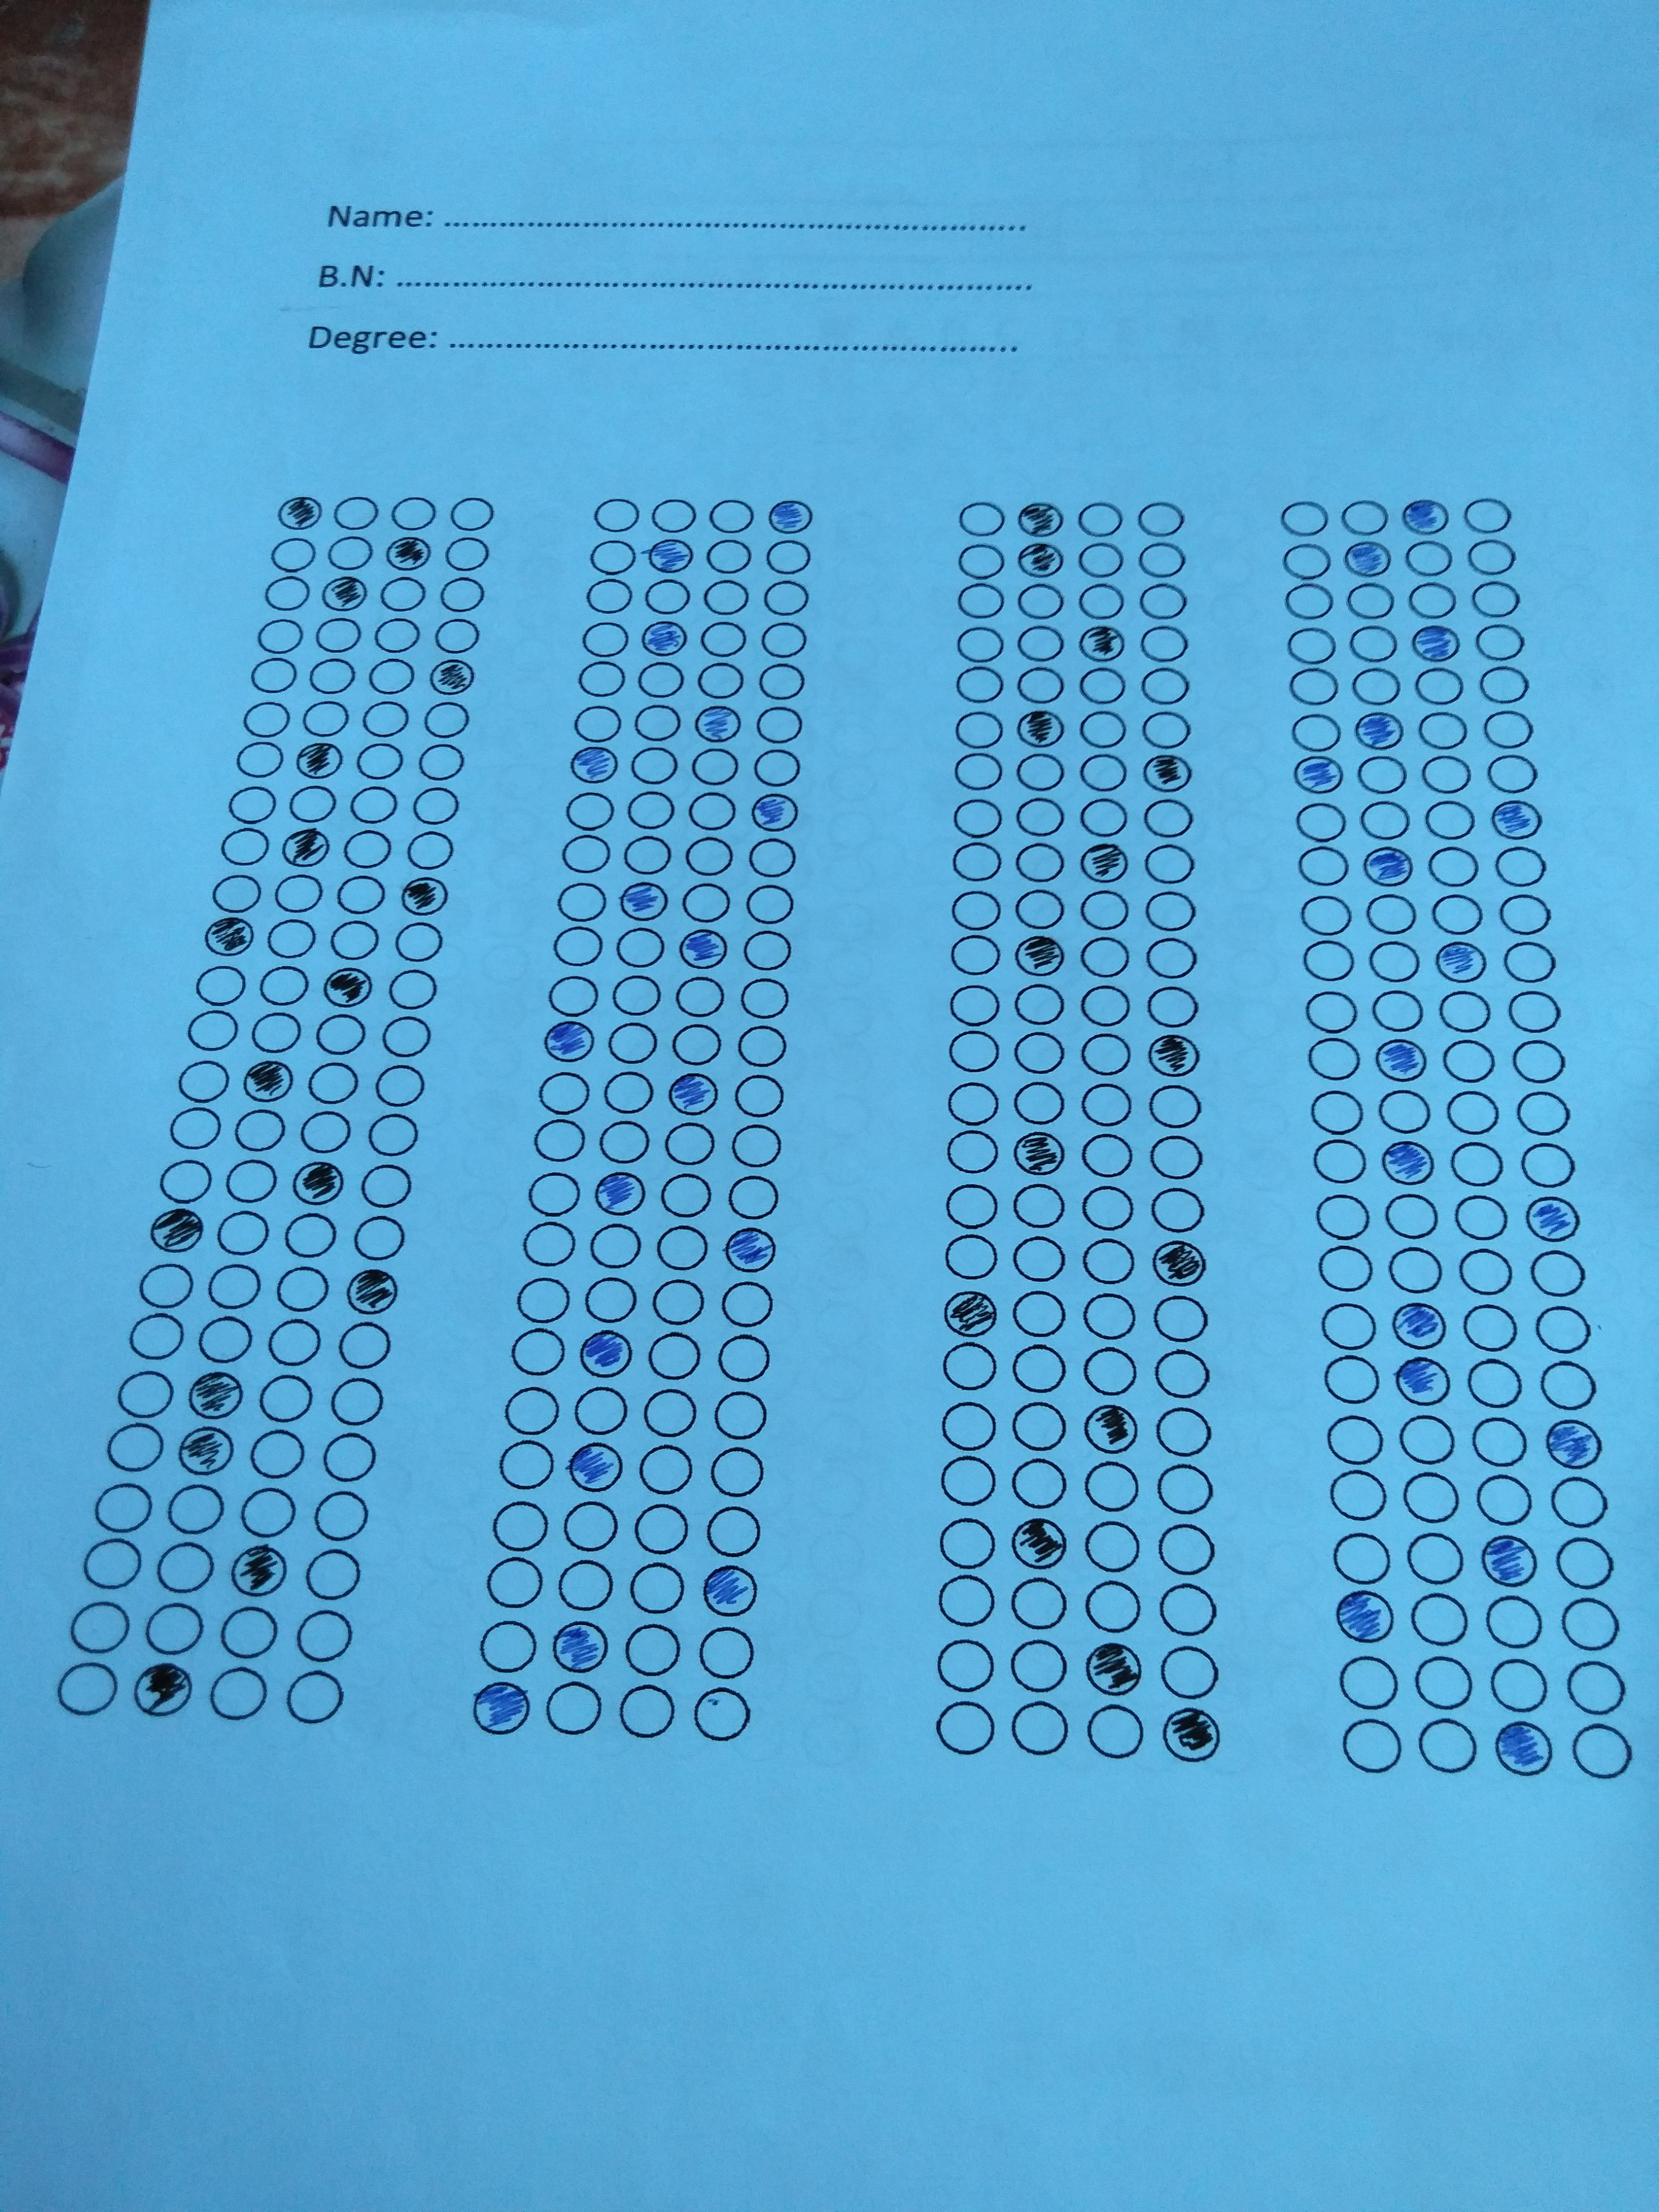not-c: (1342, 1716, 1406, 1778), (1326, 1411, 1391, 1474), (1326, 1461, 1391, 1524), (1481, 1594, 1546, 1656), (1340, 1649, 1405, 1712), (1419, 1714, 1483, 1777), (78, 1536, 146, 1595), (1159, 1646, 1227, 1705), (931, 1575, 999, 1634), (1072, 1512, 1140, 1571), (938, 1339, 1006, 1399), (1561, 1656, 1624, 1719), (1415, 1653, 1478, 1716), (1553, 1527, 1617, 1588), (1399, 1527, 1464, 1588), (1333, 1527, 1398, 1588), (1410, 1588, 1474, 1649), (1488, 1651, 1553, 1712), (1568, 1721, 1633, 1782), (113, 1366, 179, 1425), (64, 1601, 131, 1660), (1082, 1573, 1148, 1632), (1084, 1700, 1150, 1759), (537, 1681, 603, 1740), (1155, 1515, 1222, 1575), (936, 1454, 1002, 1514), (936, 1515, 1002, 1575), (1009, 1575, 1075, 1634), (52, 1658, 120, 1716), (105, 1423, 173, 1480), (692, 1684, 760, 1742), (1007, 1634, 1075, 1691), (931, 1702, 999, 1759), (934, 1230, 1002, 1287), (938, 1397, 1006, 1454), (1561, 1592, 1624, 1653), (89, 1477, 155, 1534), (617, 1684, 683, 1742), (1157, 1578, 1223, 1635), (932, 1637, 999, 1695), (1000, 1702, 1066, 1759), (695, 1625, 758, 1683), (631, 1501, 694, 1559), (648, 1271, 711, 1329), (723, 1169, 786, 1226), (704, 1442, 767, 1500), (714, 1275, 777, 1332), (507, 1327, 570, 1385), (504, 1383, 566, 1440), (563, 1496, 626, 1554), (559, 1550, 622, 1608), (624, 1623, 687, 1681), (1006, 1284, 1068, 1341), (1009, 1181, 1072, 1238), (1152, 1461, 1215, 1519), (1007, 1454, 1070, 1512), (1012, 1397, 1075, 1454), (512, 1275, 575, 1332), (523, 1163, 586, 1221), (519, 1217, 582, 1275), (626, 1562, 688, 1618), (638, 1440, 701, 1496), (640, 1388, 702, 1444), (645, 1329, 708, 1385), (713, 1329, 775, 1385), (706, 1388, 769, 1444), (702, 1501, 765, 1557), (481, 1555, 544, 1611), (500, 1442, 563, 1498), (491, 1498, 554, 1554), (477, 1620, 540, 1676), (1011, 1334, 1073, 1390), (1004, 1233, 1066, 1289), (1079, 1454, 1141, 1510), (575, 1381, 638, 1437), (1448, 1137, 1509, 1193), (1469, 1411, 1530, 1467), (1398, 1411, 1459, 1467), (1399, 1467, 1460, 1522), (1307, 1087, 1368, 1143), (1504, 1031, 1565, 1087), (1297, 887, 1358, 942), (1302, 979, 1363, 1035), (1305, 1031, 1366, 1087), (1443, 1082, 1504, 1137), (1530, 1247, 1591, 1303), (1467, 1355, 1528, 1411), (1460, 1298, 1521, 1353), (1453, 1244, 1514, 1299), (1474, 1472, 1535, 1526), (1377, 1083, 1438, 1137), (1549, 1474, 1610, 1527), (1317, 1240, 1378, 1294), (1387, 1244, 1448, 1298), (1380, 1190, 1441, 1244), (1319, 1350, 1380, 1404), (1323, 1299, 1384, 1353), (1310, 1190, 1371, 1244), (1305, 1137, 1366, 1191), (1302, 932, 1363, 986), (1514, 1090, 1575, 1144), (1518, 1137, 1579, 1191), (1532, 1299, 1593, 1353), (1537, 1357, 1598, 1411), (1453, 1190, 1514, 1244), (655, 1219, 713, 1273), (580, 1271, 638, 1325), (660, 1169, 718, 1223), (587, 1219, 645, 1273), (216, 1606, 277, 1656), (275, 1264, 336, 1315), (281, 1212, 342, 1263), (282, 1672, 343, 1723), (303, 1550, 364, 1601), (319, 1433, 380, 1484), (329, 1378, 390, 1428), (349, 1217, 410, 1268), (136, 1261, 197, 1312), (143, 1604, 204, 1655), (157, 1543, 218, 1594), (195, 1315, 256, 1366), (211, 1204, 272, 1254), (152, 1157, 213, 1207), (220, 1157, 281, 1207), (1077, 1186, 1138, 1237), (1147, 1294, 1208, 1345), (1148, 1407, 1209, 1458), (1080, 1237, 1141, 1287), (359, 1163, 418, 1214), (237, 1486, 296, 1536), (249, 1426, 308, 1477), (258, 1374, 317, 1425), (295, 1609, 354, 1660), (314, 1493, 373, 1543), (338, 1322, 397, 1372), (209, 1669, 268, 1719), (124, 1310, 183, 1360), (206, 1263, 265, 1313), (1145, 1183, 1204, 1233), (1079, 1346, 1138, 1397), (1080, 1289, 1140, 1339), (1145, 1350, 1206, 1399), (938, 1184, 999, 1233), (1502, 988, 1563, 1036), (1438, 1038, 1499, 1087), (664, 1122, 720, 1174), (267, 1317, 326, 1366), (164, 1486, 223, 1534), (1143, 1134, 1202, 1183), (606, 1019, 662, 1069), (612, 925, 667, 975), (1148, 1083, 1206, 1132), (610, 972, 667, 1021), (1007, 1028, 1066, 1075), (1080, 1080, 1134, 1130), (596, 1116, 652, 1165), (601, 1068, 657, 1116), (680, 878, 735, 927), (683, 836, 739, 885), (1079, 1130, 1136, 1177), (1140, 840, 1197, 885), (1436, 989, 1493, 1035), (1420, 796, 1478, 841), (1345, 664, 1403, 709), (1349, 624, 1406, 669), (1342, 493, 1399, 538), (1427, 845, 1485, 890), (1492, 843, 1549, 888), (1499, 890, 1556, 935), (1368, 941, 1425, 986), (1366, 894, 1424, 939), (1427, 890, 1485, 935), (1356, 756, 1413, 801), (1293, 798, 1351, 843), (1288, 707, 1345, 752), (1286, 667, 1344, 712), (1281, 578, 1338, 624), (1276, 538, 1333, 583), (1277, 493, 1335, 538), (1419, 709, 1476, 754), (1478, 752, 1535, 798), (1419, 749, 1476, 794), (1143, 934, 1199, 979), (1079, 1031, 1134, 1076), (1371, 989, 1427, 1035), (1295, 845, 1351, 890), (1345, 578, 1401, 624), (1502, 939, 1558, 984), (1356, 794, 1412, 840), (1284, 622, 1340, 667), (258, 615, 315, 658), (256, 573, 314, 617), (369, 613, 427, 657), (373, 571, 430, 615), (587, 491, 645, 535), (647, 495, 704, 538), (706, 493, 763, 536), (263, 531, 321, 575), (324, 524, 382, 568), (328, 488, 385, 531), (430, 571, 488, 615), (441, 533, 498, 577), (444, 491, 502, 535), (1141, 890, 1199, 934), (619, 833, 671, 880), (626, 787, 678, 834), (432, 613, 488, 657), (948, 934, 1004, 977), (1075, 752, 1131, 796), (1011, 841, 1066, 885), (1011, 887, 1066, 930), (1007, 982, 1063, 1026), (943, 1129, 999, 1172), (544, 974, 599, 1017), (671, 1024, 727, 1068), (725, 1127, 781, 1170), (737, 1024, 793, 1068), (1079, 888, 1134, 932), (371, 1066, 427, 1109), (382, 1015, 437, 1059), (167, 1108, 223, 1151), (186, 1008, 242, 1052), (300, 1109, 355, 1153), (308, 1061, 364, 1104), (314, 1010, 369, 1054), (1077, 796, 1133, 840), (385, 491, 443, 533), (1145, 986, 1199, 1029), (1079, 934, 1133, 977), (364, 1113, 418, 1157), (554, 925, 610, 967), (739, 977, 795, 1019), (669, 972, 725, 1014), (1012, 1083, 1068, 1125), (948, 1085, 1004, 1127), (948, 1033, 1004, 1075), (946, 982, 1002, 1024), (730, 1075, 786, 1116), (1079, 984, 1134, 1026), (530, 1118, 586, 1160), (537, 1071, 592, 1113), (178, 1059, 234, 1101), (232, 1109, 288, 1151), (249, 1010, 305, 1052), (690, 747, 741, 792), (687, 789, 739, 833), (742, 928, 796, 970), (1405, 536, 1459, 578), (1406, 582, 1460, 624), (1415, 667, 1469, 709), (193, 965, 249, 1005), (1136, 622, 1192, 662), (1464, 538, 1520, 578), (1473, 622, 1528, 662), (1466, 580, 1521, 620), (631, 702, 681, 745), (643, 577, 694, 620), (1143, 796, 1195, 838), (1476, 662, 1530, 702), (410, 791, 465, 829), (413, 745, 469, 784), (416, 704, 472, 742), (329, 921, 385, 960), (335, 876, 390, 914), (357, 700, 413, 738), (385, 970, 441, 1008), (240, 700, 296, 738), (246, 658, 301, 697), (284, 786, 340, 824), (559, 834, 615, 873), (559, 789, 615, 827), (579, 620, 634, 658), (580, 578, 636, 617), (582, 536, 638, 575), (227, 787, 282, 826), (214, 826, 270, 864), (751, 751, 807, 789), (751, 705, 807, 744), (758, 660, 814, 698), (760, 580, 816, 618), (701, 582, 756, 620), (692, 662, 748, 700), (951, 752, 1007, 791), (951, 709, 1007, 747), (955, 542, 1011, 580), (948, 662, 1004, 700), (955, 582, 1011, 620), (1075, 496, 1131, 535), (1133, 500, 1188, 538), (950, 500, 1006, 538), (1011, 799, 1066, 838), (1012, 752, 1068, 791), (1016, 667, 1072, 705), (1012, 624, 1068, 662), (1014, 583, 1070, 622), (953, 841, 1009, 880), (946, 799, 1002, 838), (1136, 665, 1192, 704), (1134, 580, 1190, 618), (1140, 540, 1195, 578), (1073, 667, 1129, 705), (1072, 578, 1127, 617), (629, 744, 680, 786), (636, 658, 687, 700), (314, 618, 368, 657), (404, 831, 458, 869), (342, 829, 396, 867), (349, 784, 403, 822), (354, 742, 408, 780), (364, 658, 418, 697), (396, 923, 450, 961), (272, 874, 326, 913), (300, 698, 354, 737), (303, 657, 357, 695), (558, 883, 612, 921), (573, 705, 627, 744), (579, 660, 633, 698), (258, 963, 312, 1001), (263, 918, 317, 956), (211, 873, 265, 911), (230, 740, 284, 779), (746, 840, 800, 878), (758, 620, 812, 658), (763, 538, 817, 577), (701, 538, 755, 577), (741, 885, 795, 923), (697, 622, 751, 660), (951, 624, 1006, 662), (951, 892, 1006, 930), (1138, 711, 1192, 749), (1072, 709, 1126, 747), (1075, 543, 1129, 582), (1483, 711, 1535, 749), (1462, 496, 1514, 533)
taken-c: (469, 1681, 535, 1738), (1159, 1709, 1225, 1766), (570, 1327, 636, 1385), (563, 1440, 629, 1498), (547, 1618, 613, 1676), (699, 1564, 765, 1622), (1079, 1402, 1145, 1460), (1007, 1512, 1073, 1569), (1148, 1238, 1215, 1296), (941, 1282, 1007, 1339), (1493, 1719, 1560, 1777), (1540, 1414, 1607, 1472), (1474, 1531, 1540, 1588), (1394, 1350, 1460, 1407), (718, 1221, 782, 1278), (1084, 1641, 1148, 1698), (131, 1663, 197, 1719), (1331, 1588, 1398, 1644), (1520, 1195, 1586, 1249), (1371, 1035, 1436, 1089), (587, 1169, 653, 1219), (1378, 1137, 1439, 1190), (1429, 939, 1492, 989), (1385, 1303, 1448, 1352), (230, 1547, 291, 1595), (178, 1426, 239, 1475), (185, 1372, 247, 1420), (1338, 535, 1398, 582), (1351, 707, 1410, 754), (1291, 754, 1351, 801), (1486, 798, 1546, 845), (1361, 845, 1419, 892), (1410, 620, 1467, 667), (1401, 495, 1459, 542), (319, 571, 376, 615), (382, 531, 439, 575), (199, 916, 256, 960), (319, 968, 376, 1012), (399, 874, 457, 918), (275, 826, 333, 869), (1143, 1033, 1201, 1076), (763, 495, 819, 538), (666, 1071, 721, 1115), (1011, 1130, 1066, 1174), (343, 1270, 399, 1313), (288, 1160, 343, 1204), (274, 489, 331, 531), (240, 1062, 296, 1104), (148, 1209, 204, 1251), (293, 738, 345, 780), (647, 536, 701, 577), (694, 702, 748, 742), (1012, 707, 1066, 747), (676, 928, 730, 968), (617, 880, 671, 920), (749, 789, 802, 829), (1080, 841, 1133, 881), (1014, 498, 1066, 538), (570, 747, 622, 787), (640, 620, 694, 658), (1075, 624, 1129, 662), (1012, 543, 1066, 582), (540, 1022, 594, 1061), (429, 658, 479, 698), (1016, 937, 1068, 975), (1141, 754, 1194, 792)
